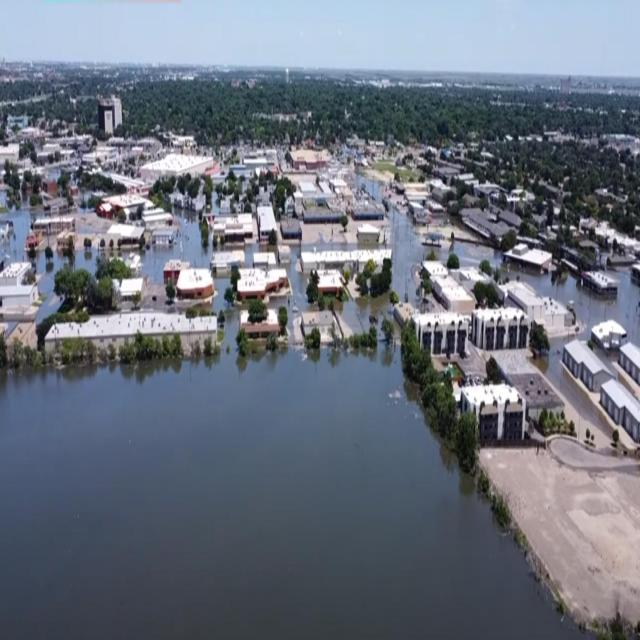flood: (0, 308, 581, 637), (0, 333, 585, 638), (526, 267, 640, 343), (141, 215, 210, 283), (389, 206, 424, 303), (36, 249, 66, 317), (0, 203, 29, 260), (455, 240, 501, 263), (290, 245, 306, 308), (74, 232, 96, 271), (355, 173, 382, 190), (214, 276, 229, 306)
house: (47, 316, 217, 356), (456, 377, 526, 457), (412, 307, 471, 370), (476, 300, 534, 354), (420, 255, 474, 313), (600, 378, 640, 442), (166, 259, 218, 307), (564, 344, 612, 395), (141, 151, 214, 184), (506, 232, 555, 281), (238, 262, 291, 304), (238, 306, 283, 353), (299, 303, 342, 350), (462, 202, 507, 246), (581, 263, 622, 304), (590, 317, 627, 360), (311, 261, 346, 304), (0, 315, 37, 354), (215, 213, 253, 250), (96, 92, 124, 140), (290, 144, 332, 176), (212, 249, 246, 284), (0, 261, 33, 295), (106, 224, 144, 247), (255, 211, 279, 246), (356, 219, 383, 249), (620, 341, 640, 376), (56, 226, 76, 255), (26, 224, 43, 254), (151, 229, 176, 249), (95, 197, 114, 223), (253, 250, 276, 270), (278, 247, 292, 266)
